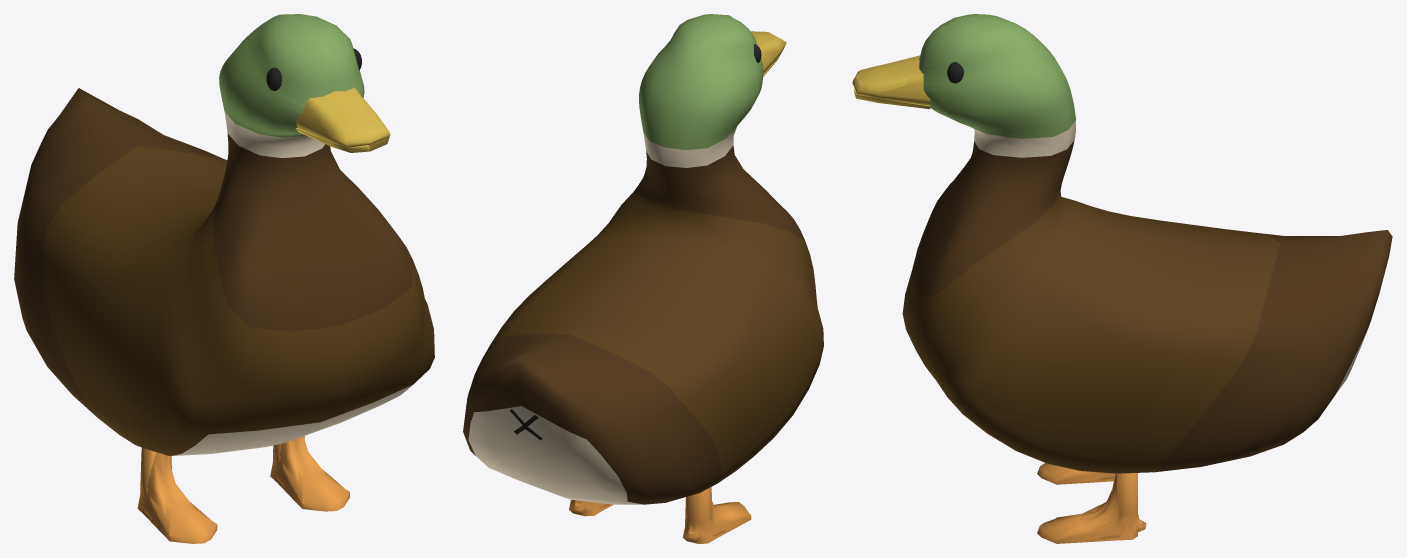
The model's file is duck_fbx.fbx.
The picture shows the model from 3 angles, left to right: view 1: azimuth 30°, elevation 25°; view 2: azimuth 150°, elevation 25°; view 3: azimuth 270°, elevation 25°; orthographic projection. The views are drawn at different scales.
Visible parts, largest first — view 1: body, body.001, nose, rightFoot, leftFoot; view 2: body.001, body, rightFoot, nose; view 3: body.001, body, leftFoot, nose, rightFoot.
Boxes of the visible parts, bbox=[...] form: body: bbox=[15, 14, 343, 455]; body.001: bbox=[14, 14, 434, 528]; nose: bbox=[295, 87, 390, 152]; rightFoot: bbox=[137, 447, 217, 543]; leftFoot: bbox=[270, 436, 349, 511]; body.001: bbox=[463, 14, 823, 540]; body: bbox=[516, 14, 823, 504]; rightFoot: bbox=[683, 487, 751, 543]; nose: bbox=[751, 31, 786, 76]; body.001: bbox=[864, 14, 1392, 538]; body: bbox=[907, 15, 1392, 286]; leftFoot: bbox=[1037, 473, 1146, 543]; nose: bbox=[852, 55, 930, 108]; rightFoot: bbox=[1037, 463, 1114, 484].
Size of the model in its own units: 0.5989 by 1.14 by 1.16.
